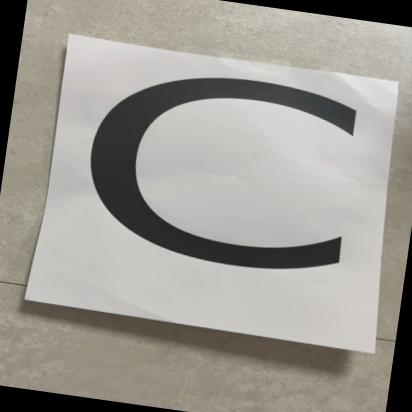seat: (41, 44, 412, 352)
